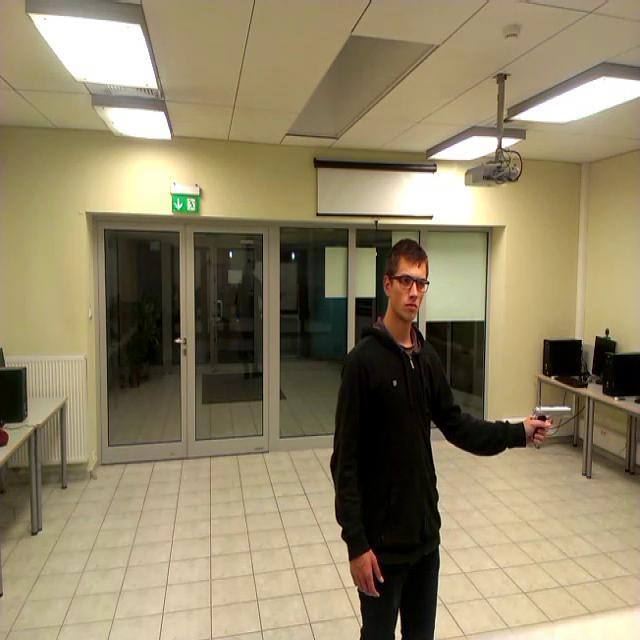Gun: (532, 404, 573, 439)
